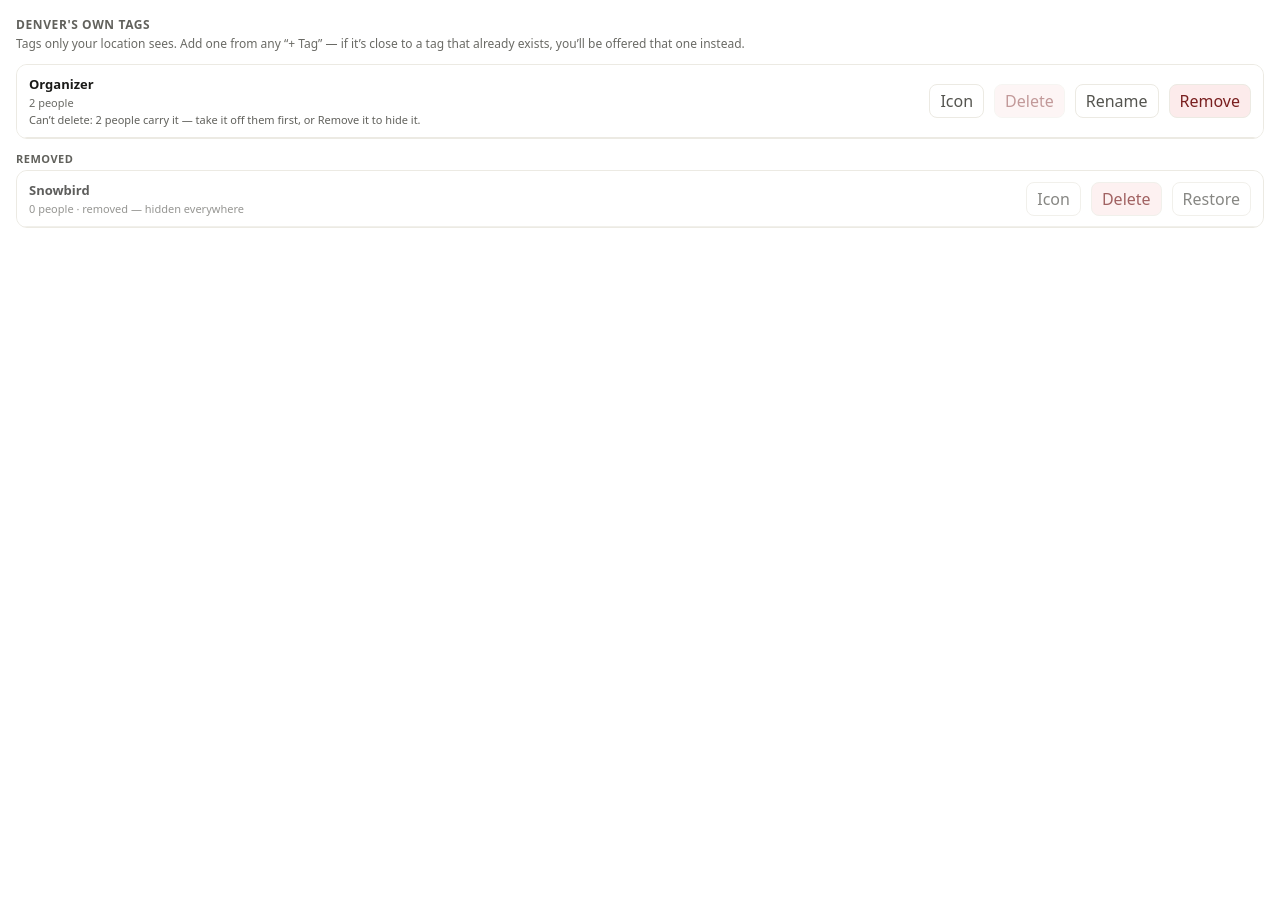
E) Settings › Tags: Icon and Delete › if something changed meanwhile, the refusal is shown and the row updated
Click the button "Delete" in the row of "· removed — hidden everywhere" at (1126, 198), box [1091,182,1162,216]
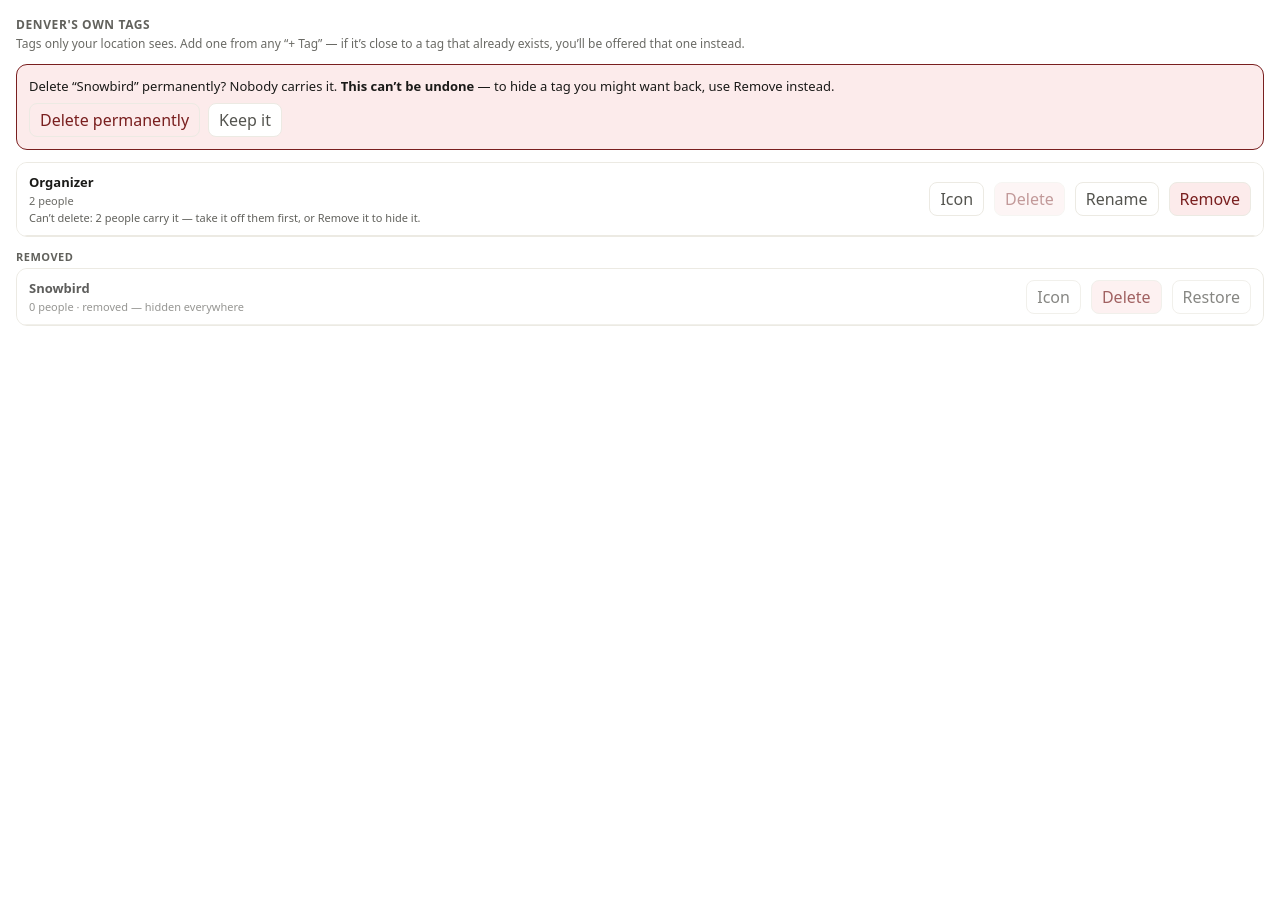
Click the button "Delete permanently" at (115, 120), box [29,103,200,137]
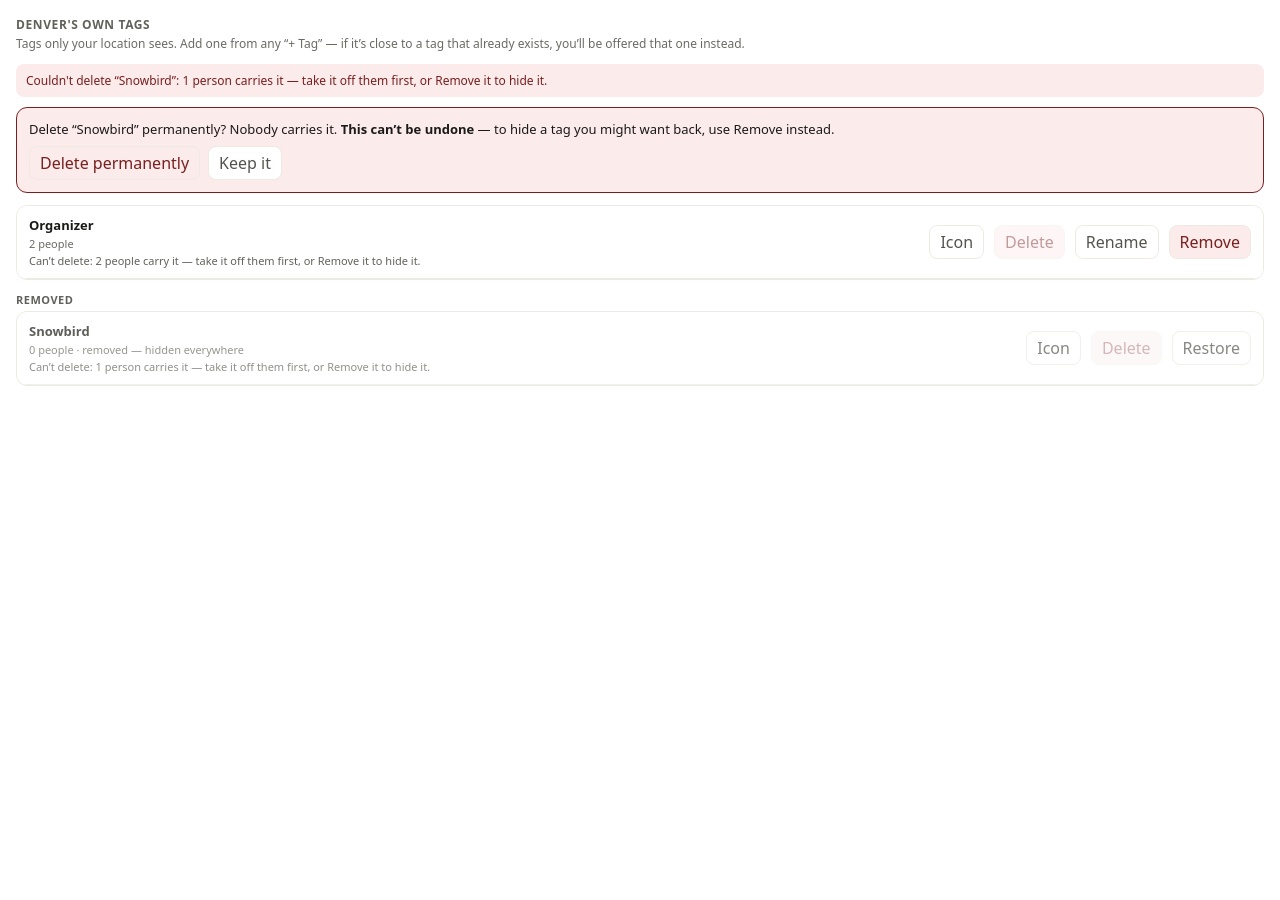
Expected: the message shows "Couldn't delete “Snowbird”: 1 person carries it", [26,72,547,89]
Expected: the button "Delete" in the row of "· removed — hidden everywhere" is disabled, [1091,331,1162,365]
